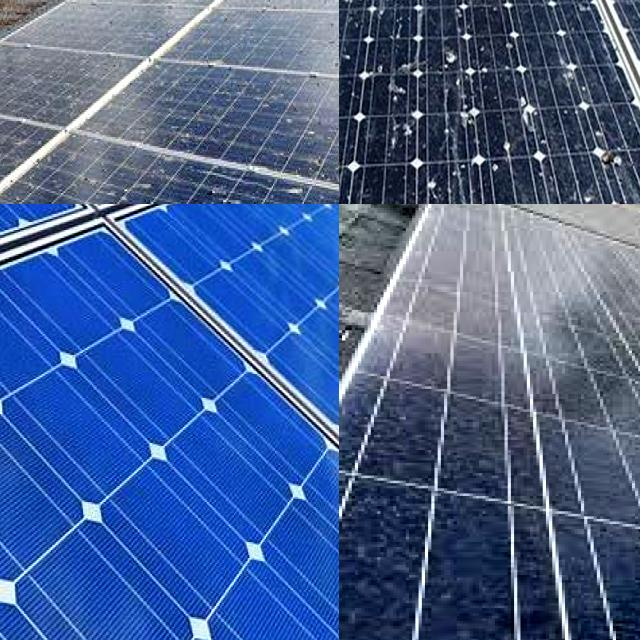bird: (105, 162, 161, 203), (584, 146, 634, 180), (339, 157, 369, 204), (288, 187, 339, 204)
crack: (0, 232, 339, 640), (102, 204, 339, 582), (0, 204, 287, 307), (0, 204, 179, 369)
dust: (408, 306, 620, 488), (442, 220, 596, 297), (439, 499, 519, 640), (562, 520, 640, 640), (347, 486, 405, 640), (485, 204, 584, 231)
